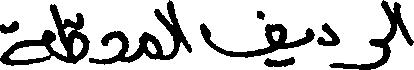X: (200, 6, 314, 69), (0, 0, 50, 69), (351, 0, 388, 69), (56, 1, 86, 68), (316, 18, 338, 69), (102, 26, 128, 69), (143, 4, 158, 64), (160, 0, 174, 64), (397, 0, 413, 50), (176, 13, 185, 59), (390, 0, 395, 57)
